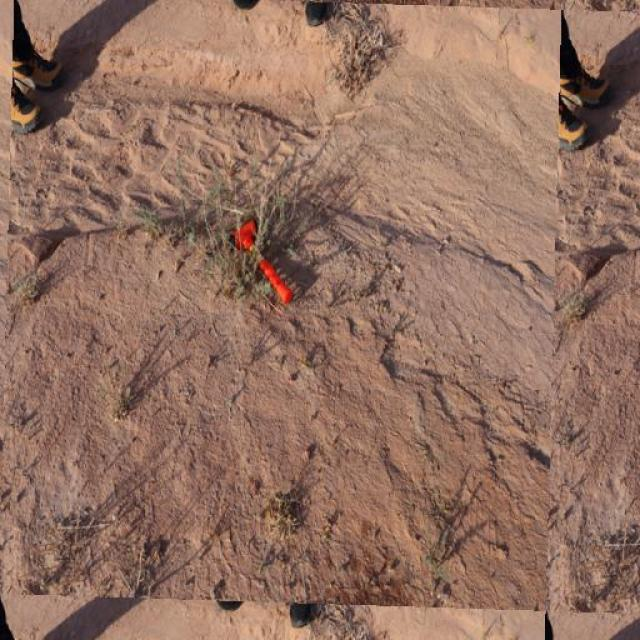mallet: (230, 217, 294, 305)
